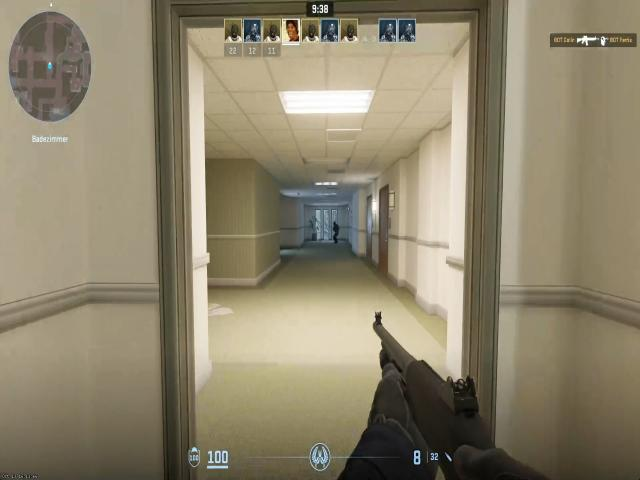CT: (331, 220, 340, 244)
